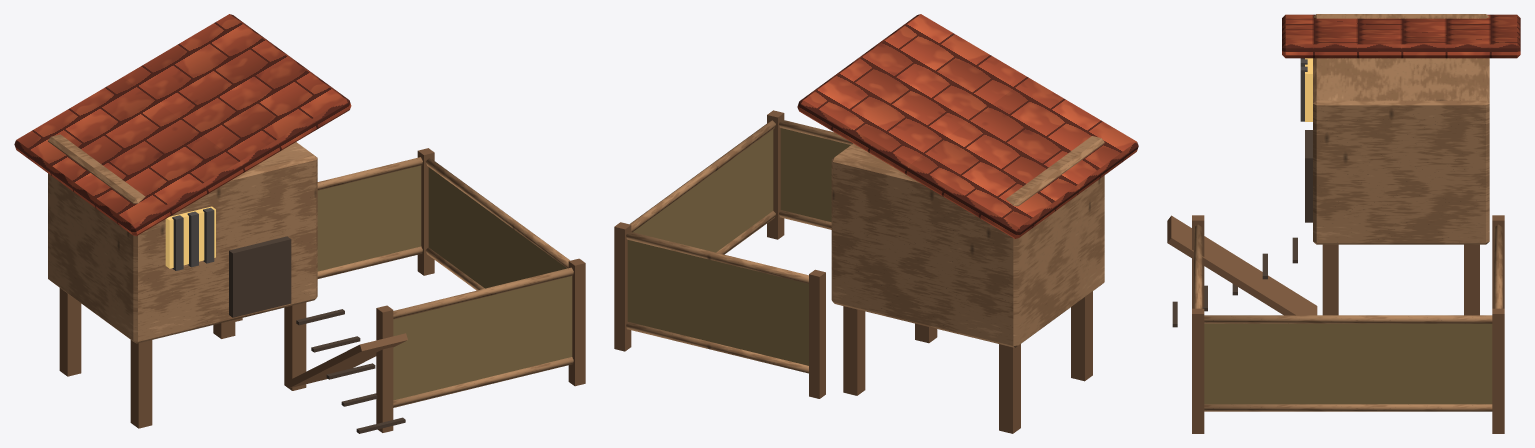
Rendered from chicken_coop.glb.
The picture shows the model from 3 angles, left to right: view 1: azimuth 30°, elevation 25°; view 2: azimuth 150°, elevation 25°; view 3: azimuth 270°, elevation 25°; orthographic projection.
Visible parts, largest first — view 1: chicken_coop_run, chicken_coop_house, chicken_coop_roof; view 2: chicken_coop_house, chicken_coop_run, chicken_coop_roof; view 3: chicken_coop_run, chicken_coop_house, chicken_coop_roof.
Boxes of the visible parts, box(x1,y1,x2,y2) form: chicken_coop_run: box(235, 148, 585, 433); chicken_coop_house: box(48, 134, 317, 428); chicken_coop_roof: box(14, 14, 351, 236); chicken_coop_house: box(831, 136, 1104, 433); chicken_coop_run: box(614, 110, 852, 398); chicken_coop_roof: box(797, 14, 1138, 238); chicken_coop_run: box(1167, 215, 1504, 433); chicken_coop_house: box(1300, 14, 1489, 315); chicken_coop_roof: box(1282, 14, 1520, 58).
Size of what is drawn, in the model's own units: 2.65 by 1.85 by 2.
7 materials, 7 textured.
